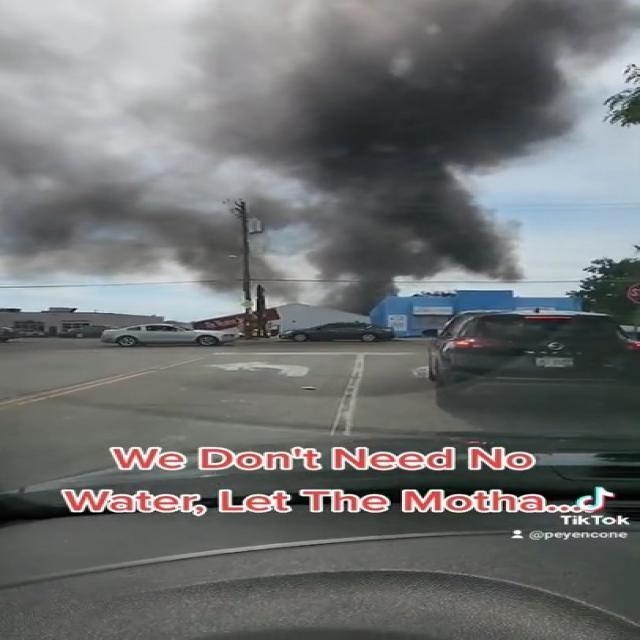Smoke: (163, 0, 536, 293)
